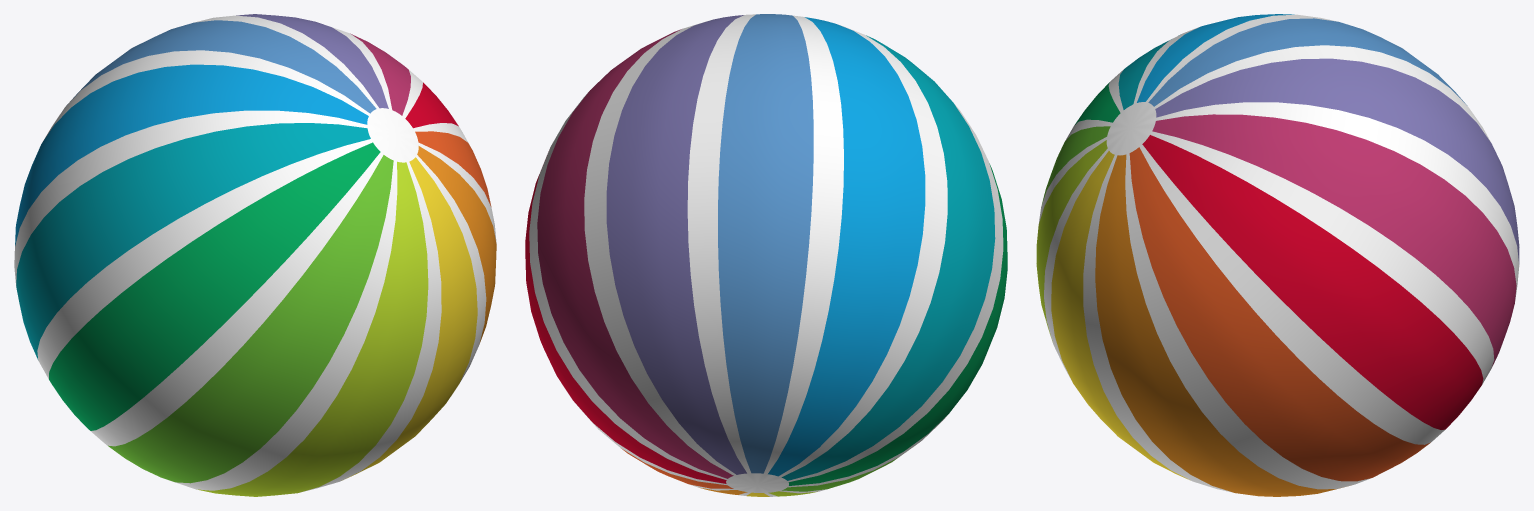
Rendered from ball.obj.
The picture shows the model from 3 angles, left to right: view 1: azimuth 30°, elevation 25°; view 2: azimuth 150°, elevation 25°; view 3: azimuth 270°, elevation 25°; orthographic projection.
Parts seen in each view (by area): view 1: Kugel, Kugel.1; view 2: Kugel, Kugel.1; view 3: Kugel, Kugel.1.
Boxes of the visible parts, <box> form: Kugel: <box>15,14,496,496</box>; Kugel.1: <box>14,15,496,492</box>; Kugel: <box>525,14,1007,496</box>; Kugel.1: <box>529,14,1003,496</box>; Kugel: <box>1036,14,1519,496</box>; Kugel.1: <box>1039,14,1519,492</box>.
Size of the model in its own units: 399 by 400 by 400.
